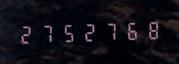eight: (137, 18, 156, 41)
five: (57, 21, 76, 44)
seven: (37, 21, 56, 45), (97, 19, 116, 43)
six: (117, 19, 136, 42)
two: (17, 22, 36, 45), (77, 20, 96, 43)
